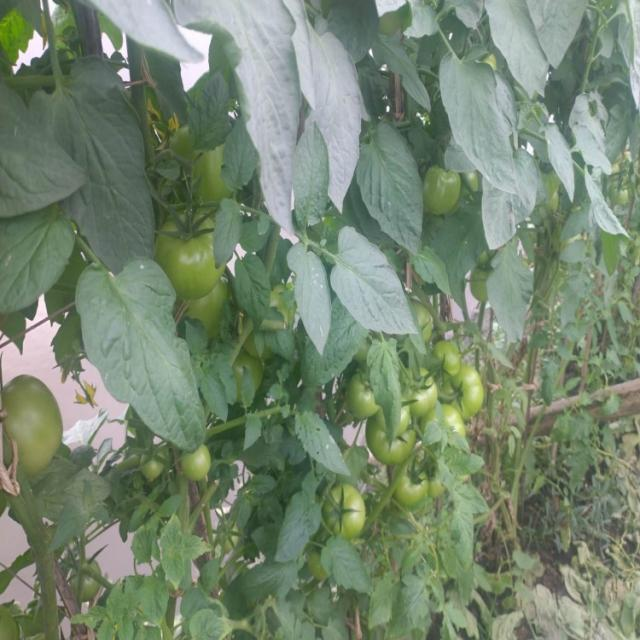tomato: (154, 212, 242, 299), (1, 378, 64, 478), (165, 127, 236, 192), (184, 278, 241, 336), (362, 408, 419, 464), (328, 491, 376, 545), (418, 163, 464, 219), (398, 365, 442, 414), (444, 367, 487, 417), (339, 373, 384, 414), (416, 405, 465, 437), (67, 556, 102, 596), (398, 456, 423, 511), (184, 444, 220, 480), (433, 344, 463, 382), (472, 252, 493, 305), (411, 304, 440, 341), (137, 450, 166, 484), (425, 460, 450, 496), (545, 179, 568, 217), (306, 544, 326, 580), (610, 183, 632, 210)
